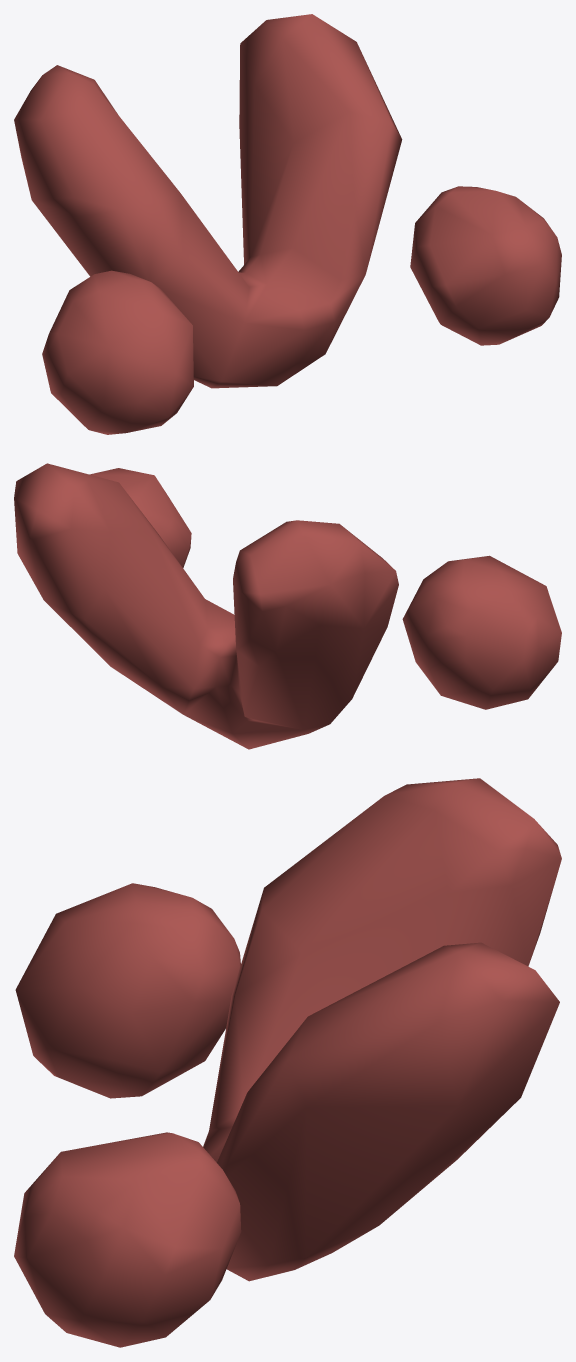
Rendered from FMA62032.glb.
3 renders of one model, top to bottom at view 1: azimuth 30°, elevation 25°; view 2: azimuth 150°, elevation 25°; view 3: azimuth 270°, elevation 25°, orthographic. The views are drawn at different scales.
Parts seen in each view (by area): view 1: FMA62032; view 2: FMA62032; view 3: FMA62032.
Boxes of the visible parts, left/top/right/bottom form: FMA62032: left=14, top=14, right=561, bottom=434; FMA62032: left=14, top=463, right=561, bottom=749; FMA62032: left=14, top=778, right=561, bottom=1347.
Bounding box in the file's own units: 0.00721 × 0.00403 × 0.00492.
